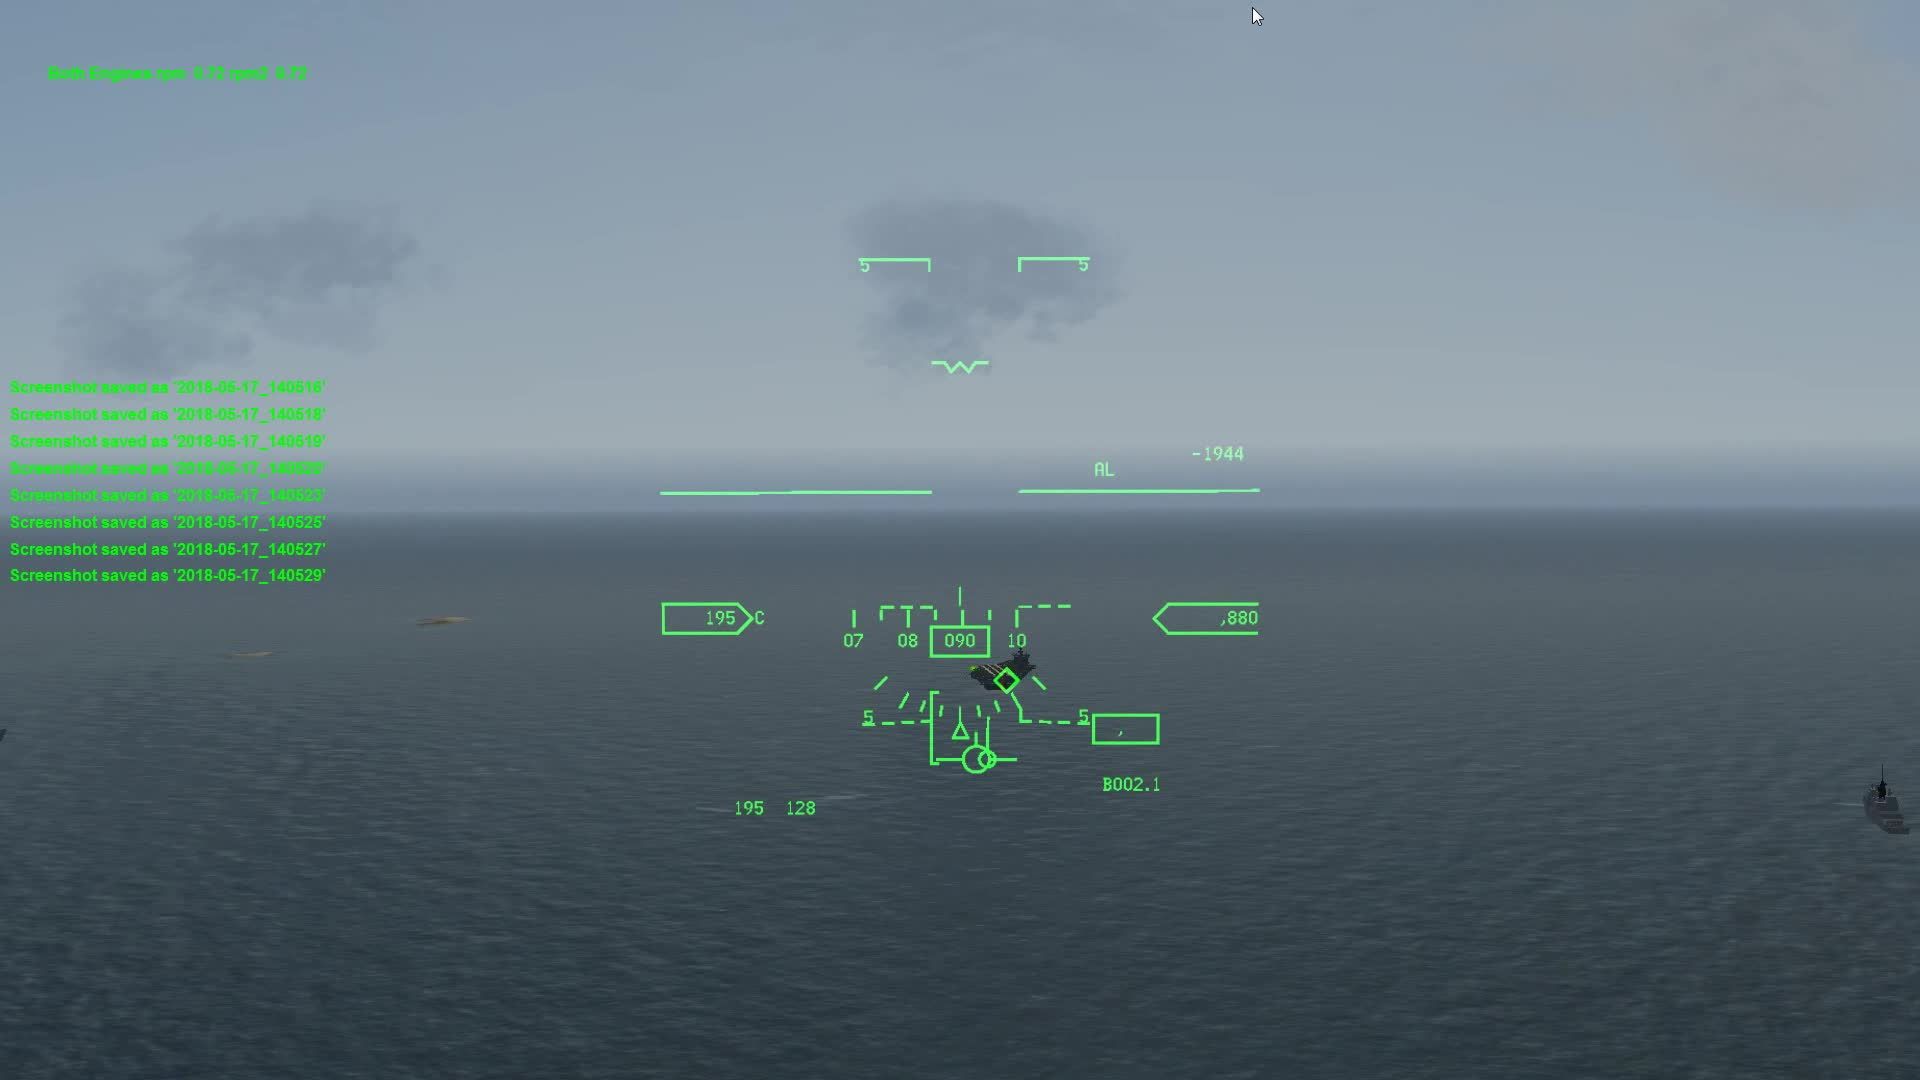speed vector: (940, 735, 1029, 779)
